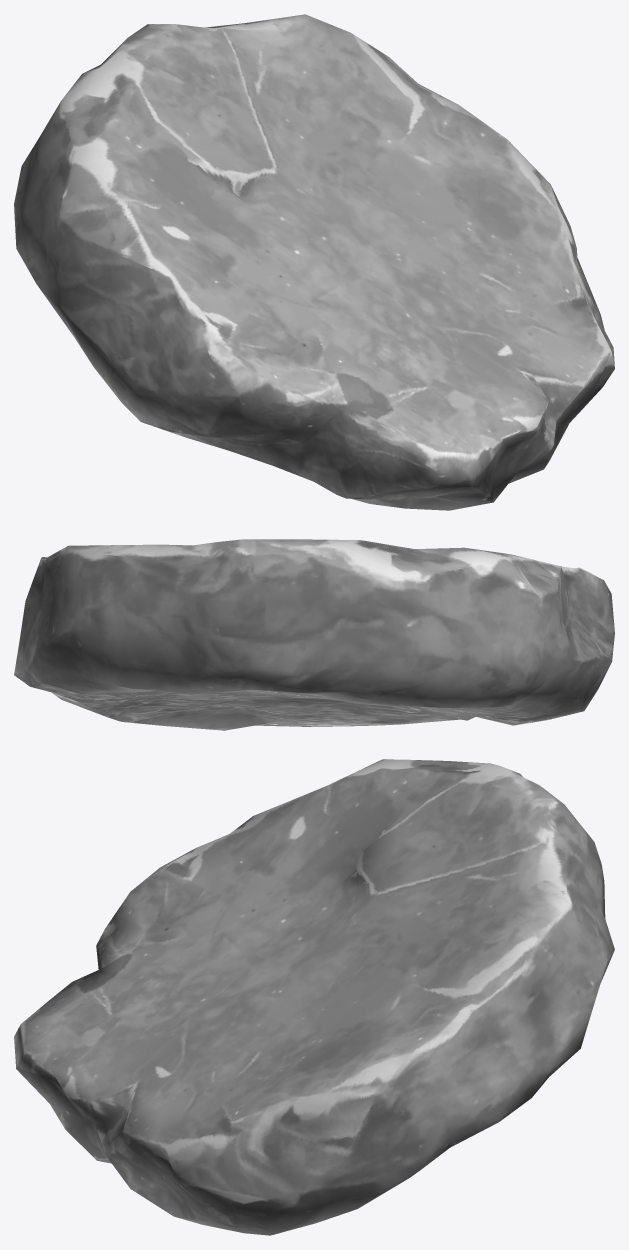
Rendered from rock_03.glb.
The picture shows the model from 3 angles, top to bottom: view 1: azimuth 30°, elevation 25°; view 2: azimuth 150°, elevation 25°; view 3: azimuth 270°, elevation 25°; orthographic projection. The views are drawn at different scales.
Parts seen in each view (by area): view 1: rock_03; view 2: rock_03; view 3: rock_03.
Part boxes in pixels (x1,y1,x2,y2): rock_03: [14, 14, 614, 510]; rock_03: [14, 539, 614, 730]; rock_03: [14, 759, 614, 1235].
Size of the model in its own units: 1.79 by 1.16 by 1.86.
Materials: 1 (1 with a texture image).
